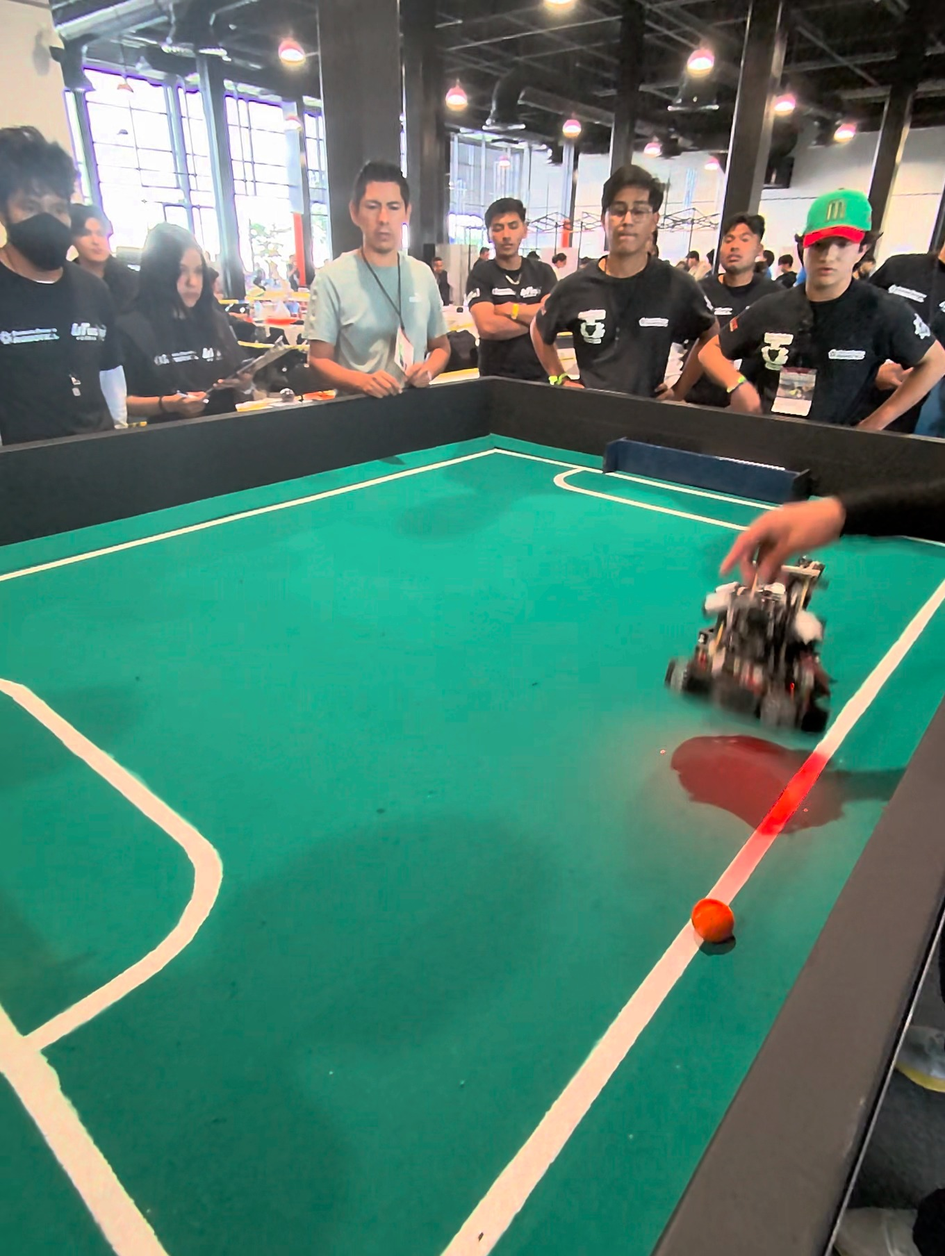Robot: (678, 523, 847, 752)
pelota: (690, 897, 735, 948)
